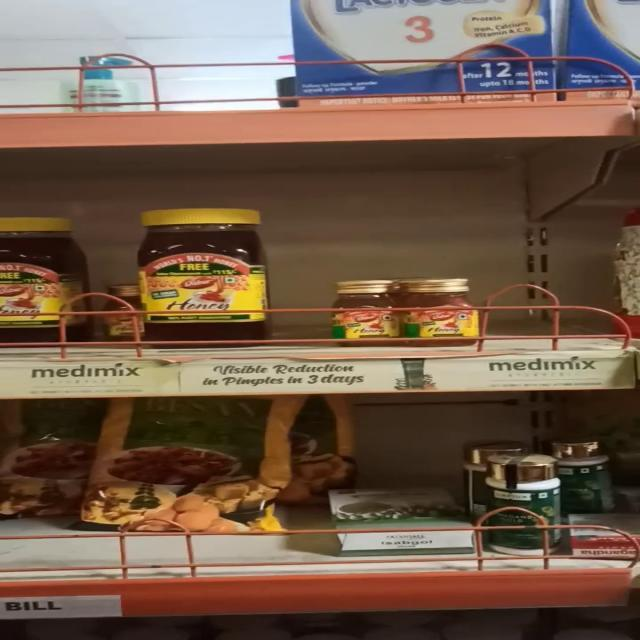Dabur Honey: (149, 210, 270, 344), (404, 276, 484, 341), (330, 279, 400, 345)
